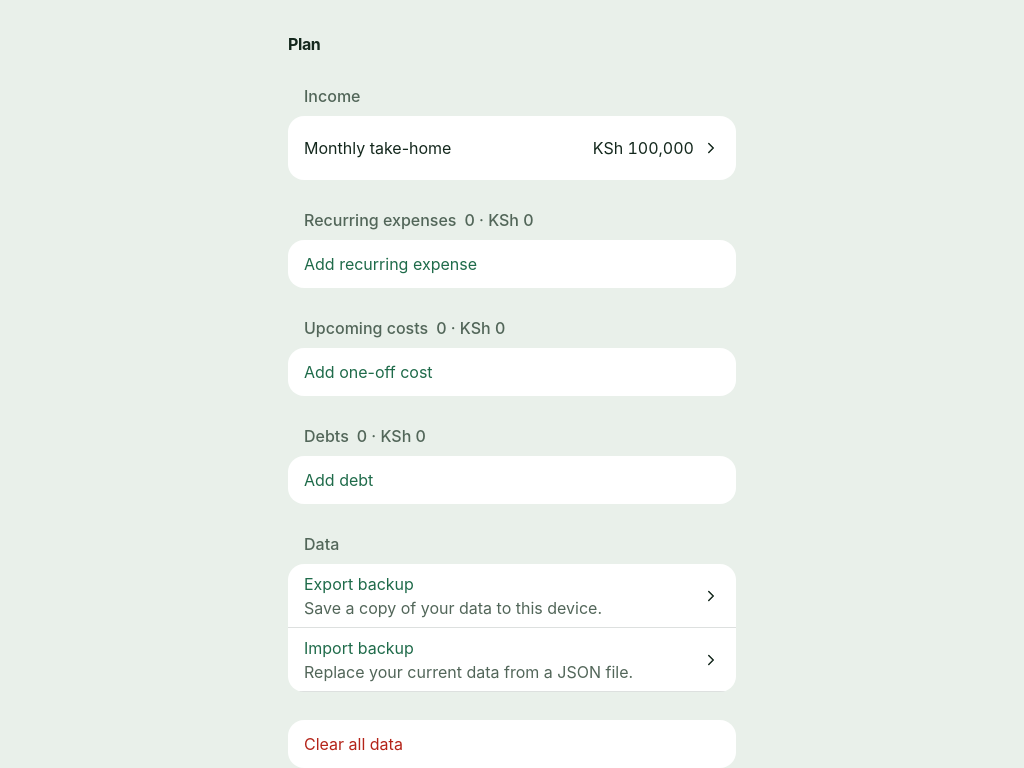
Test case: PlanTab › adds a recurring expense from the bottom sheet
Click the button "Add recurring expense" at (322, 264), box x1=288 y1=240 x2=736 y2=288
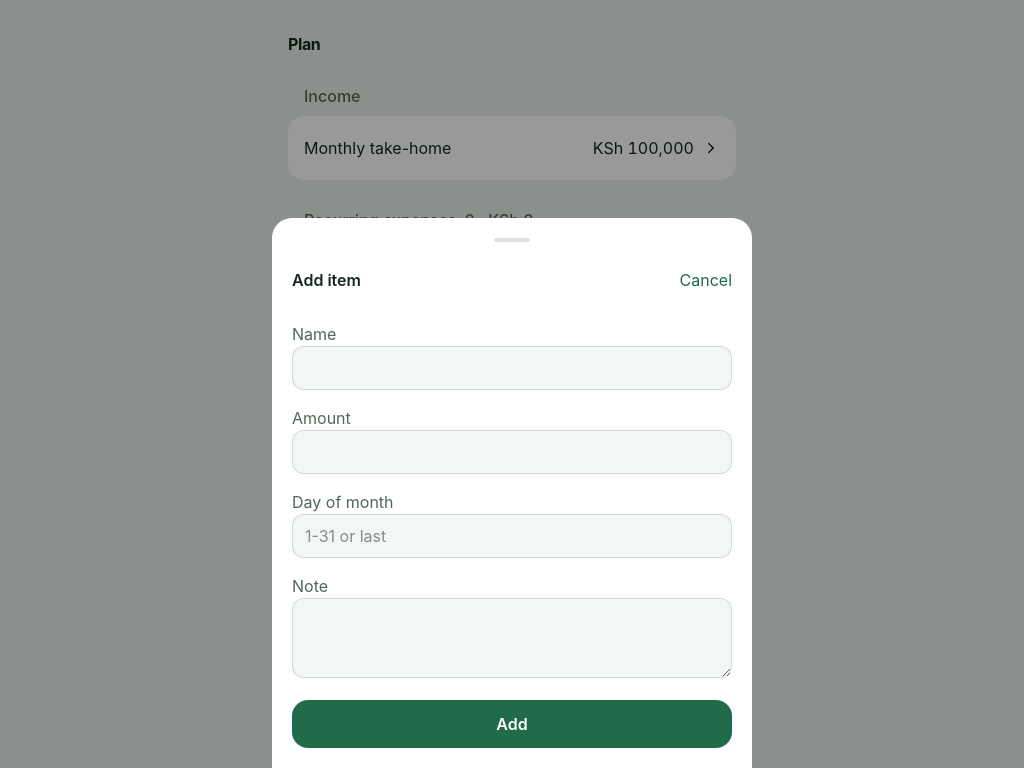
Type "Internet" into the field labelled "Name" at (512, 368), box x1=292 y1=346 x2=732 y2=390
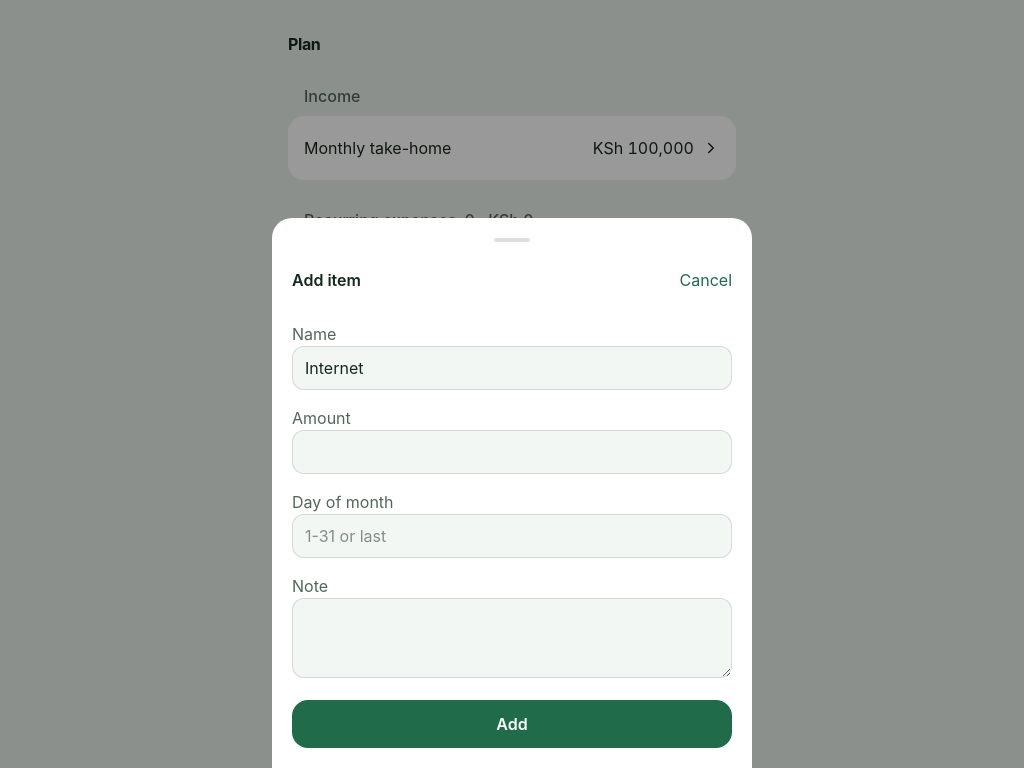
Type "2500" into the number field labelled "Amount" at (512, 452), box x1=292 y1=430 x2=732 y2=474
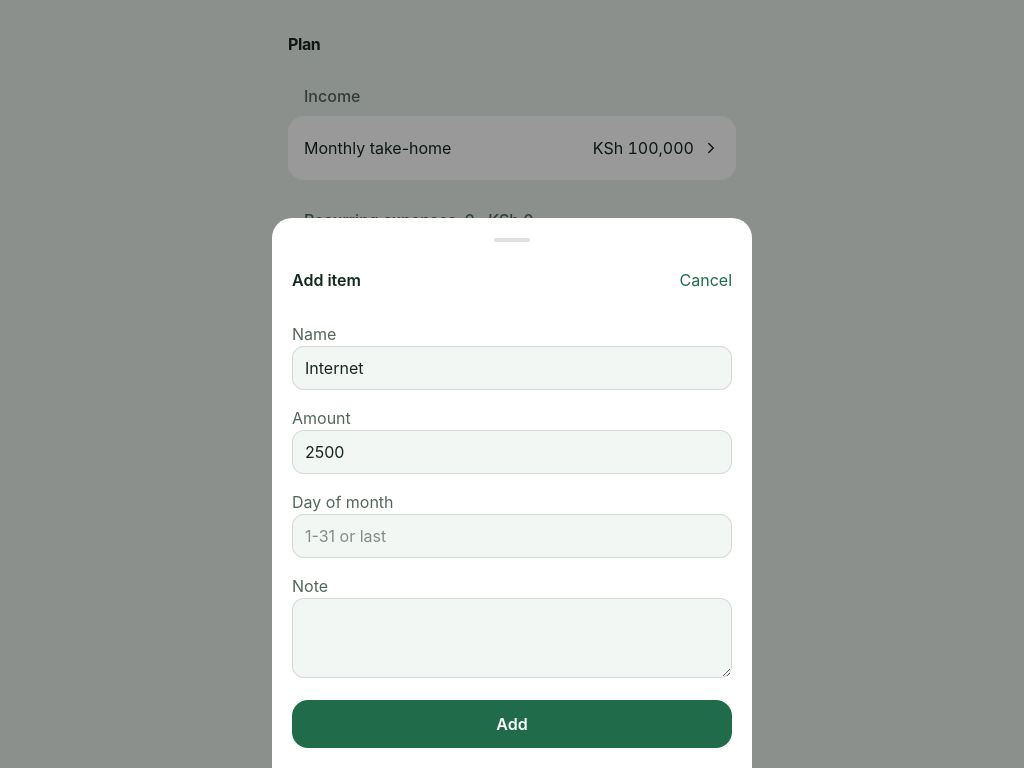
Type "10" into the field labelled "Day of month" at (512, 536), box x1=292 y1=514 x2=732 y2=558
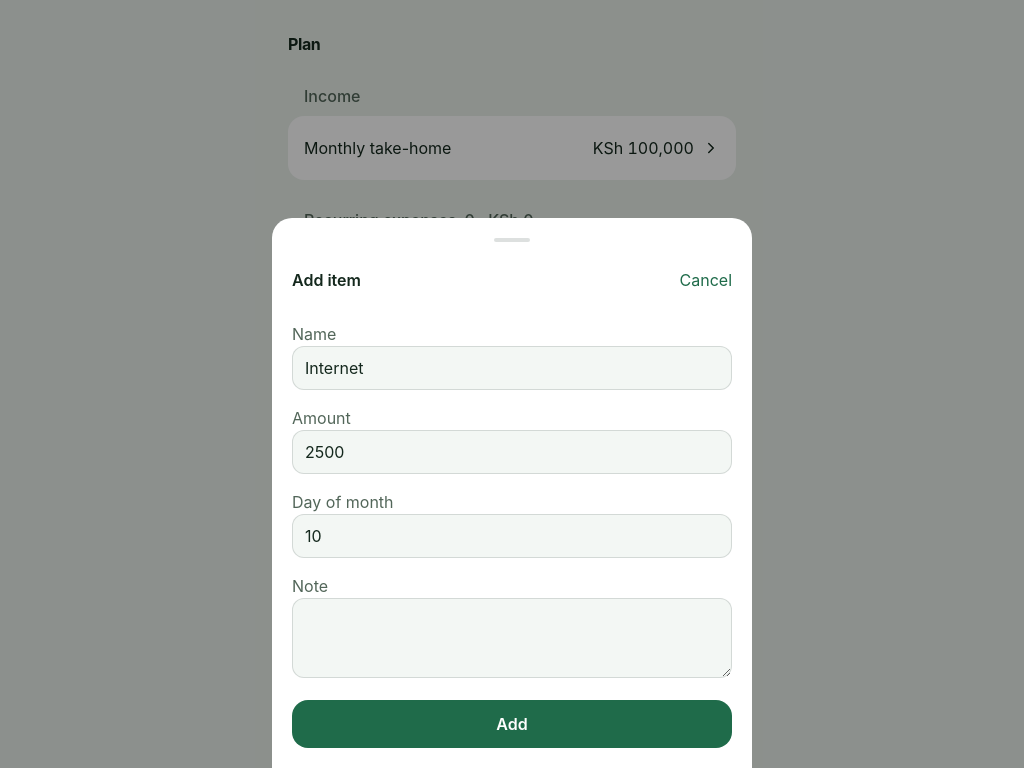
Click the button "Add" at (512, 724), box x1=292 y1=700 x2=732 y2=748
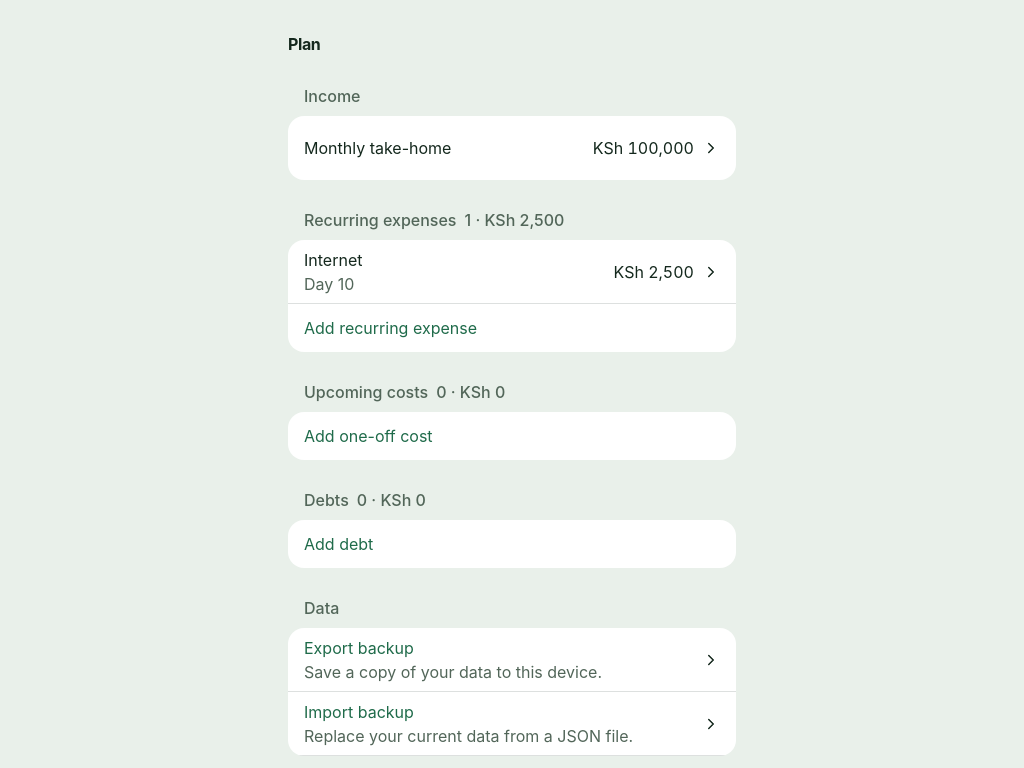
Now the text "Internet" is shown, box x1=304 y1=248 x2=362 y2=272
Now the text "KSh 2,500" is shown, box x1=614 y1=260 x2=720 y2=284
Now the text "Day 10" is shown, box x1=304 y1=272 x2=362 y2=296
